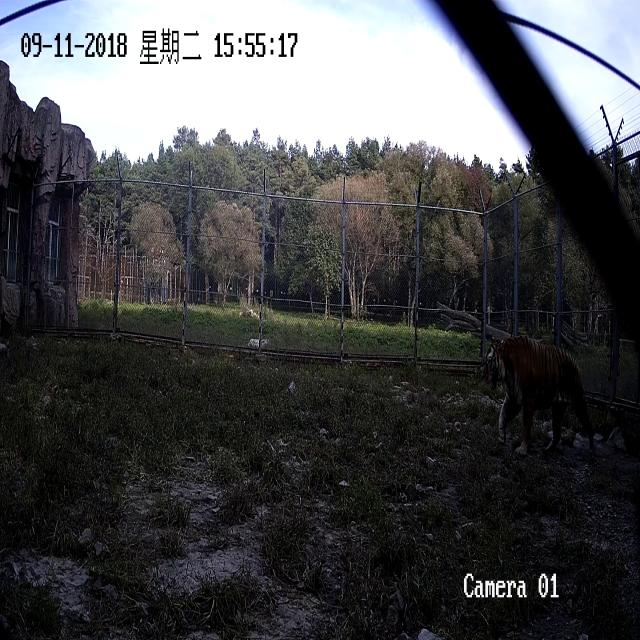Tiger: (469, 318, 612, 482)
